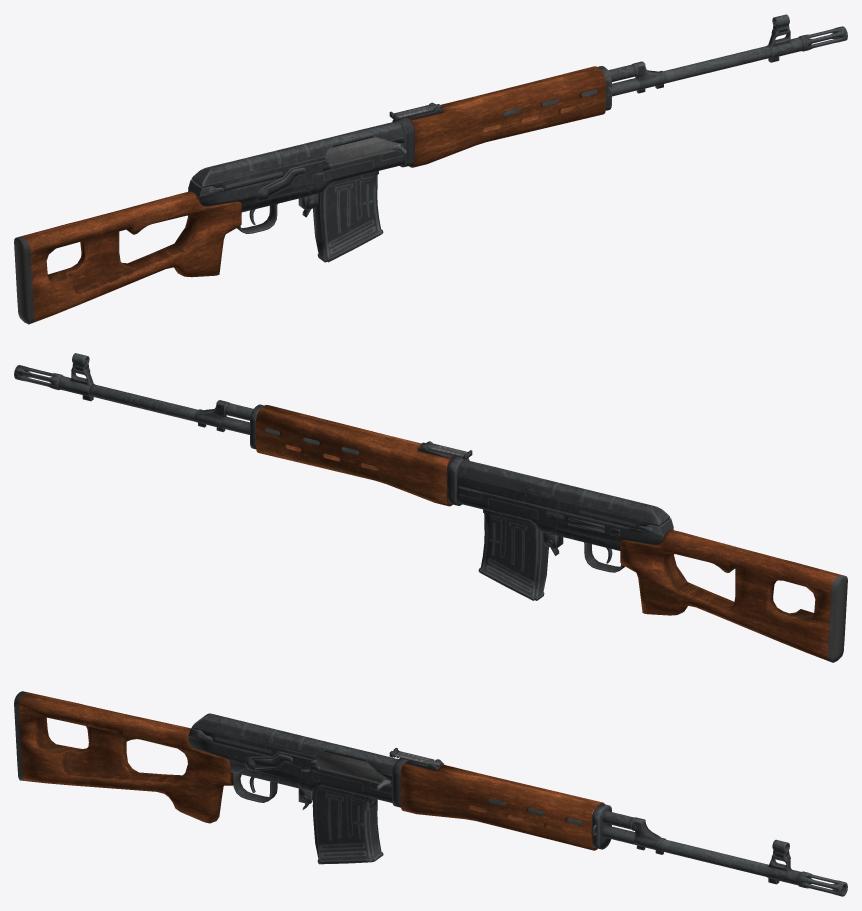
The model's file is svd.glb.
3 views of the same model, one above another, from view 1: azimuth 30°, elevation 25°; view 2: azimuth 150°, elevation 25°; view 3: azimuth 330°, elevation 25° (orthographic).
Visible parts, largest first — view 1: Object_2; view 2: Object_2; view 3: Object_2.
Part boxes in pixels (x1,y1,x2,y2): Object_2: (14,14,847,324); Object_2: (14,353,847,662); Object_2: (14,691,847,896).
Size of the model in its own units: 15.27 by 2.33 by 0.6861.
Materials: 1 (1 with a texture image).
